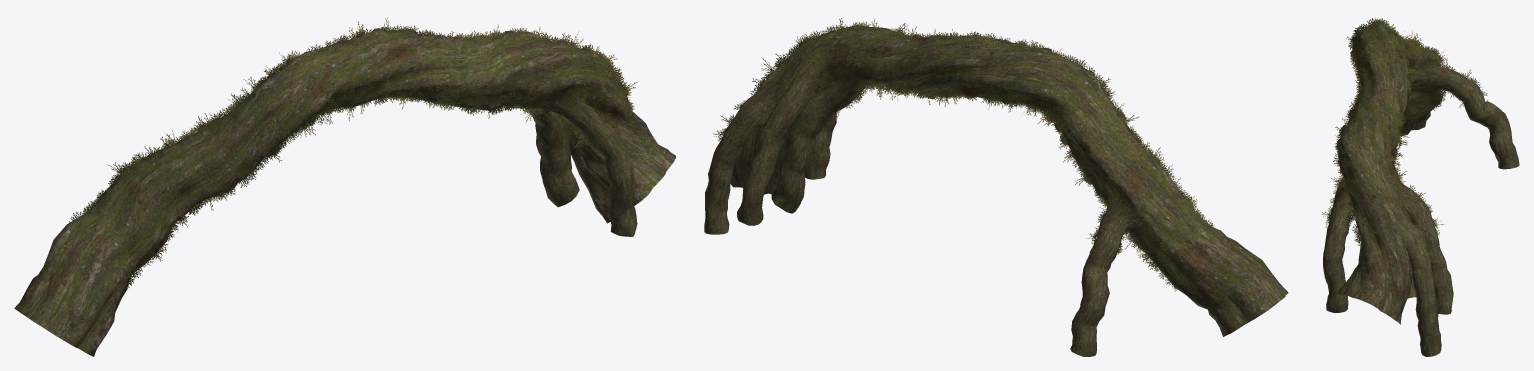
The model's file is Tree - Alien Dead trunk 02-mIz4s-2j.glb.
3 views of the same model, side by side, from view 1: azimuth 30°, elevation 25°; view 2: azimuth 150°, elevation 25°; view 3: azimuth 270°, elevation 25° (orthographic). The views are drawn at different scales.
Visible parts, largest first — view 1: Dead _trunk_02(Clone), Dead _trunk_02_Moss(Clone); view 2: Dead _trunk_02(Clone), Dead _trunk_02_Moss(Clone); view 3: Dead _trunk_02(Clone), Dead _trunk_02_Moss(Clone).
Part boxes in pixels (x1=…): Dead _trunk_02(Clone): x1=14, y1=28, x2=675, y2=356; Dead _trunk_02_Moss(Clone): x1=69, y1=17, x2=637, y2=287; Dead _trunk_02(Clone): x1=704, y1=25, x2=1288, y2=356; Dead _trunk_02_Moss(Clone): x1=713, y1=18, x2=1219, y2=291; Dead _trunk_02(Clone): x1=1323, y1=20, x2=1519, y2=356; Dead _trunk_02_Moss(Clone): x1=1322, y1=18, x2=1488, y2=275.
Size of the model in its own units: 8.79 by 3.63 by 3.16.
2 materials, 2 textured.
